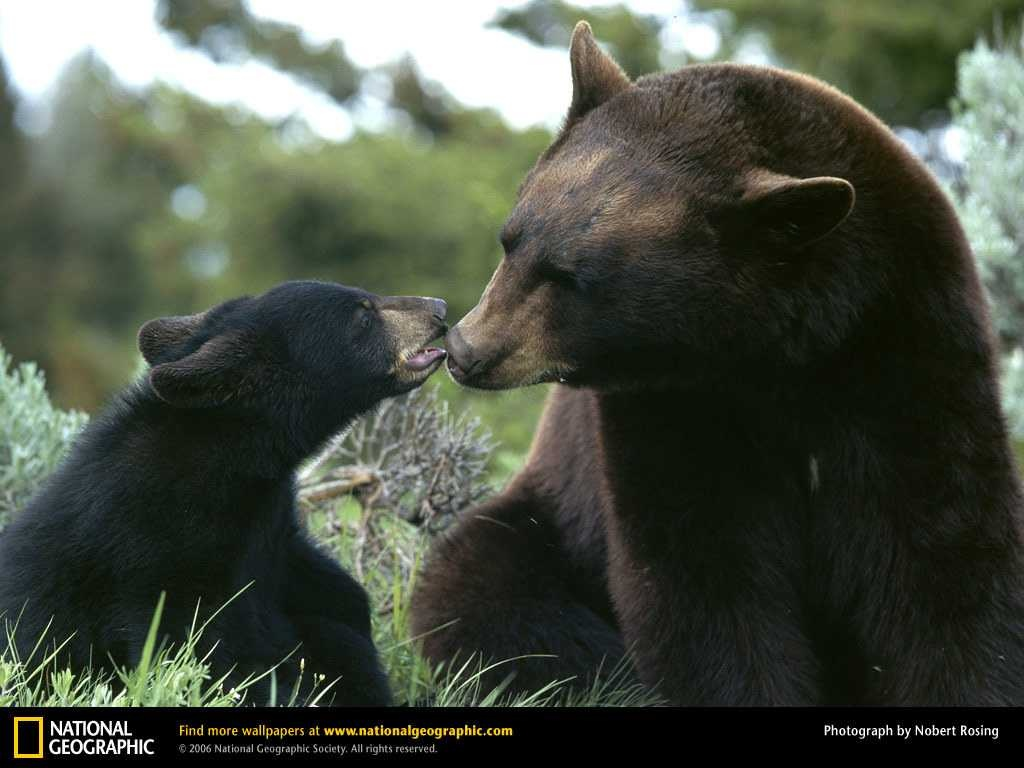bear: (535, 10, 663, 139), (470, 211, 598, 339), (728, 146, 856, 274), (322, 282, 450, 410), (133, 291, 261, 419)
